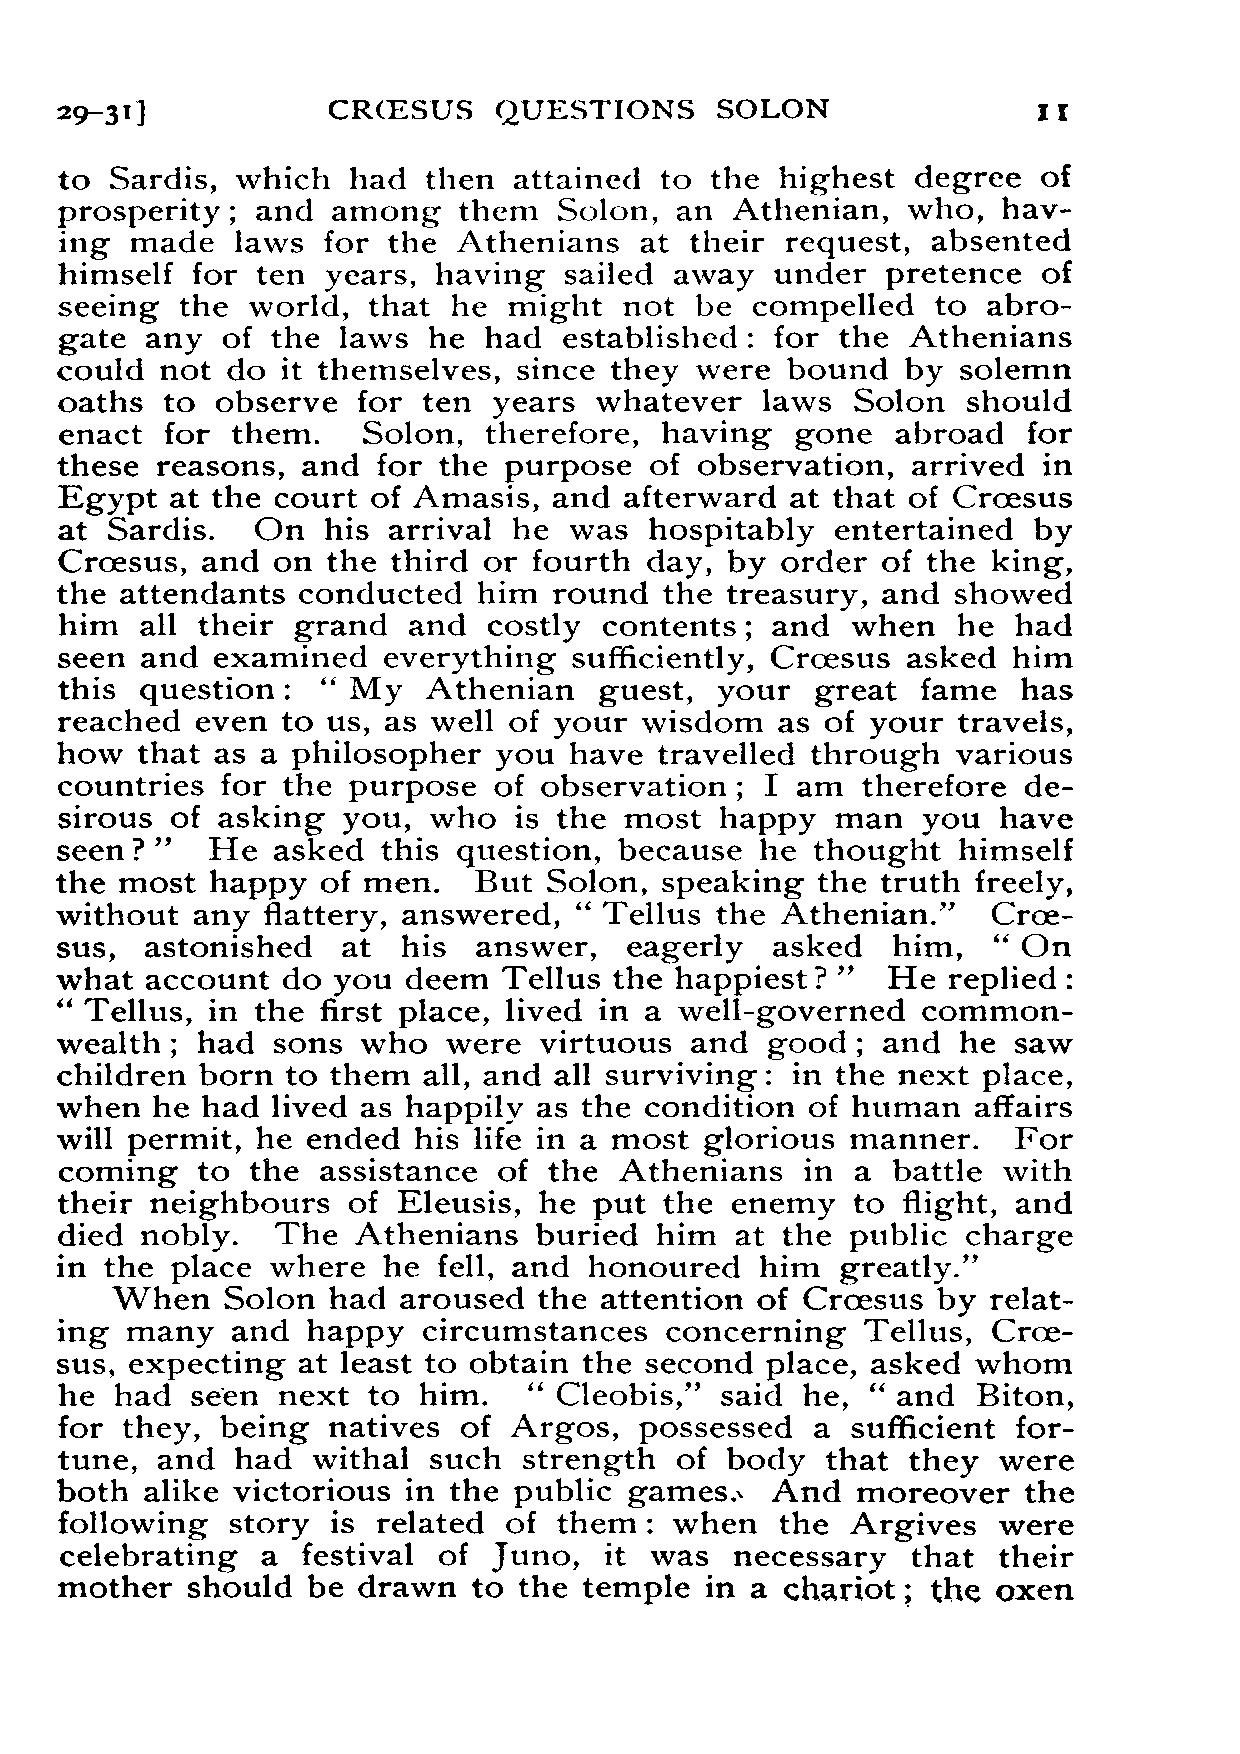content: (52, 160, 1079, 1610)
content_chapter: (322, 93, 827, 126)
content_pagenumber: (1031, 95, 1070, 127)
